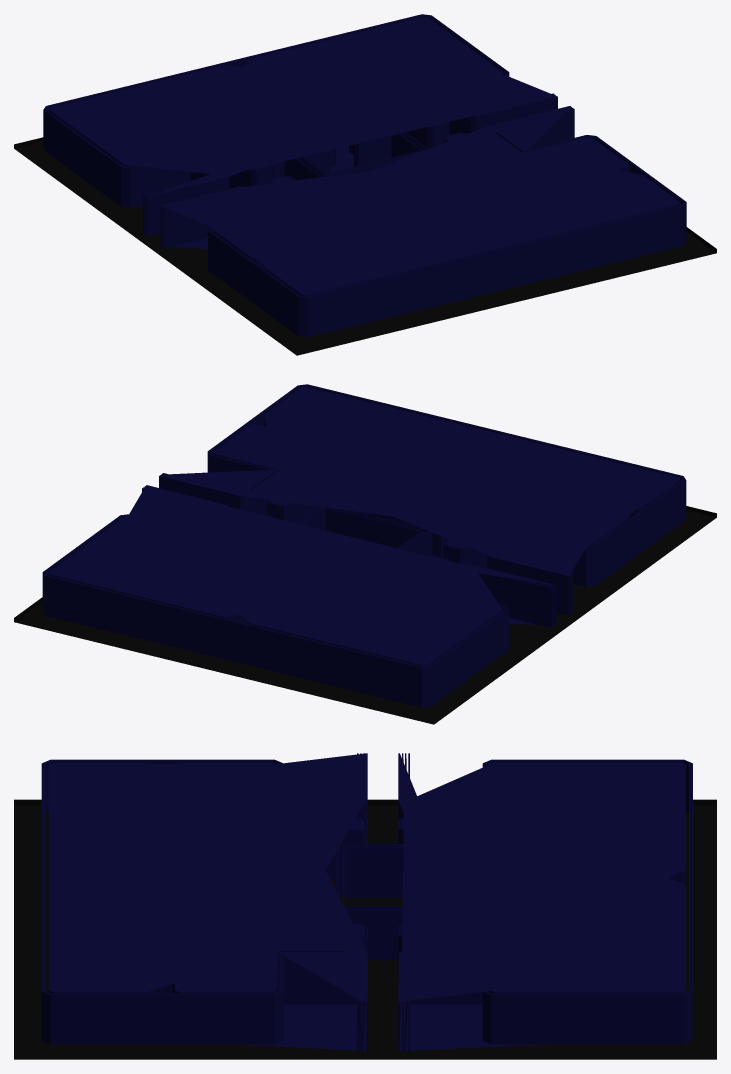
The model's file is Map_Grounded.obj.
3 views of the same model, one above another, from view 1: azimuth 30°, elevation 25°; view 2: azimuth 150°, elevation 25°; view 3: azimuth 270°, elevation 25° (orthographic). The views are drawn at different scales.
Parts seen in each view (by area): view 1: map.001; view 2: map.001; view 3: map.001.
Part boxes in pixels (<box>): map.001: <box>14,14,716,355</box>; map.001: <box>14,384,716,724</box>; map.001: <box>14,753,716,1059</box>.
Size of the model in its own units: 24 by 2.42 by 28.
